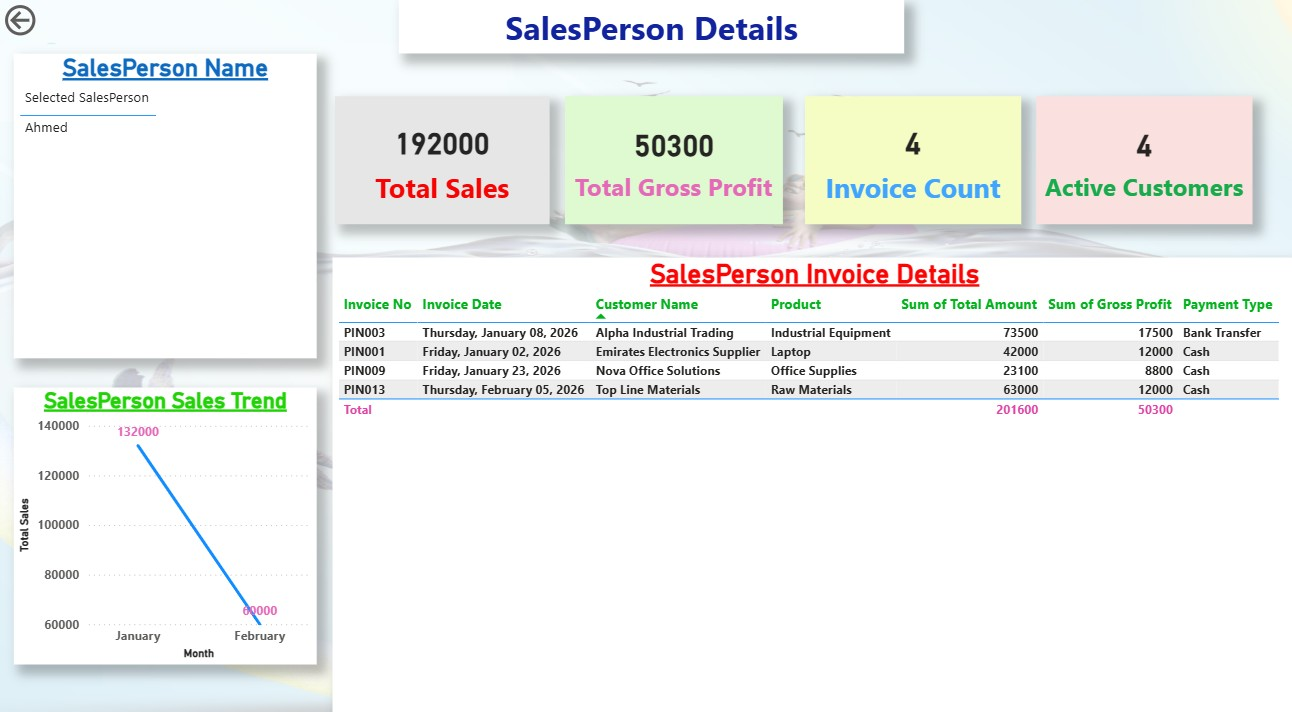

The dashboard page shown, as its layout file describes it:
{"tool":"powerbi","page":{"name":"SalesPerson Details","canvas":[1280,720],"ordinal":8},"visuals":[{"type":"textbox","box":[394.2,0,499.5,52.7],"z":0},{"type":"tableEx","title":"SalesPerson Name","fields":{"Values":["_Measures.Selected SalesPerson"]},"box":[13.5,52.7,299.4,300.9],"z":1000},{"type":"actionButton","box":[0,0,100,40],"z":2000},{"type":"card","fields":{"Values":["_Measures.Total Sales"]},"box":[330.3,95.1,212.1,126.4],"z":3000},{"type":"card","fields":{"Values":["_Measures.Total Gross Profit"]},"box":[557.7,94.8,215.1,126.4],"z":4000},{"type":"card","fields":{"Values":["_Measures.Invoice Count"]},"box":[795.4,94.8,213.6,126.4],"z":5000},{"type":"card","fields":{"Values":["_Measures.Active Custumers"]},"box":[1023,94.8,213.6,126.4],"z":6000},{"type":"lineChart","title":"SalesPerson Sales Trend","fields":{"Category":["tbl_Sales.Invoice Date.Variation.Date Hierarchy.Month"],"Y":["_Measures.Total Sales"]},"box":[13.5,382.1,299.4,273.8],"z":7000},{"type":"tableEx","title":"SalesPerson Invoice Details","fields":{"Values":["tbl_Sales.Invoice No","tbl_Sales.Invoice Date","tbl_Sales.Customer  Name","tbl_Sales.Product","Sum(tbl_Sales.Total Amount)","Sum(tbl_Sales.Gross Profit)","tbl_Sales.Payment Type"]},"box":[328,254.3,952.3,452.8],"z":8000}]}

Visuals, with their boxes in screenshot pixels (x1, y1, x2, y2), scaled from the page's 1280x720 canvas onto the 1292x712 screenshot:
textbox: [x1=398, y1=0, x2=902, y2=52]
"SalesPerson Name" tableEx: [x1=14, y1=52, x2=316, y2=350]
actionButton: [x1=0, y1=0, x2=101, y2=40]
card - _Measures.Total Sales: [x1=333, y1=94, x2=547, y2=219]
card - _Measures.Total Gross Profit: [x1=563, y1=94, x2=780, y2=219]
card - _Measures.Invoice Count: [x1=803, y1=94, x2=1018, y2=219]
card - _Measures.Active Custumers: [x1=1033, y1=94, x2=1248, y2=219]
"SalesPerson Sales Trend" lineChart: [x1=14, y1=378, x2=316, y2=649]
"SalesPerson Invoice Details" tableEx: [x1=331, y1=251, x2=1291, y2=699]
